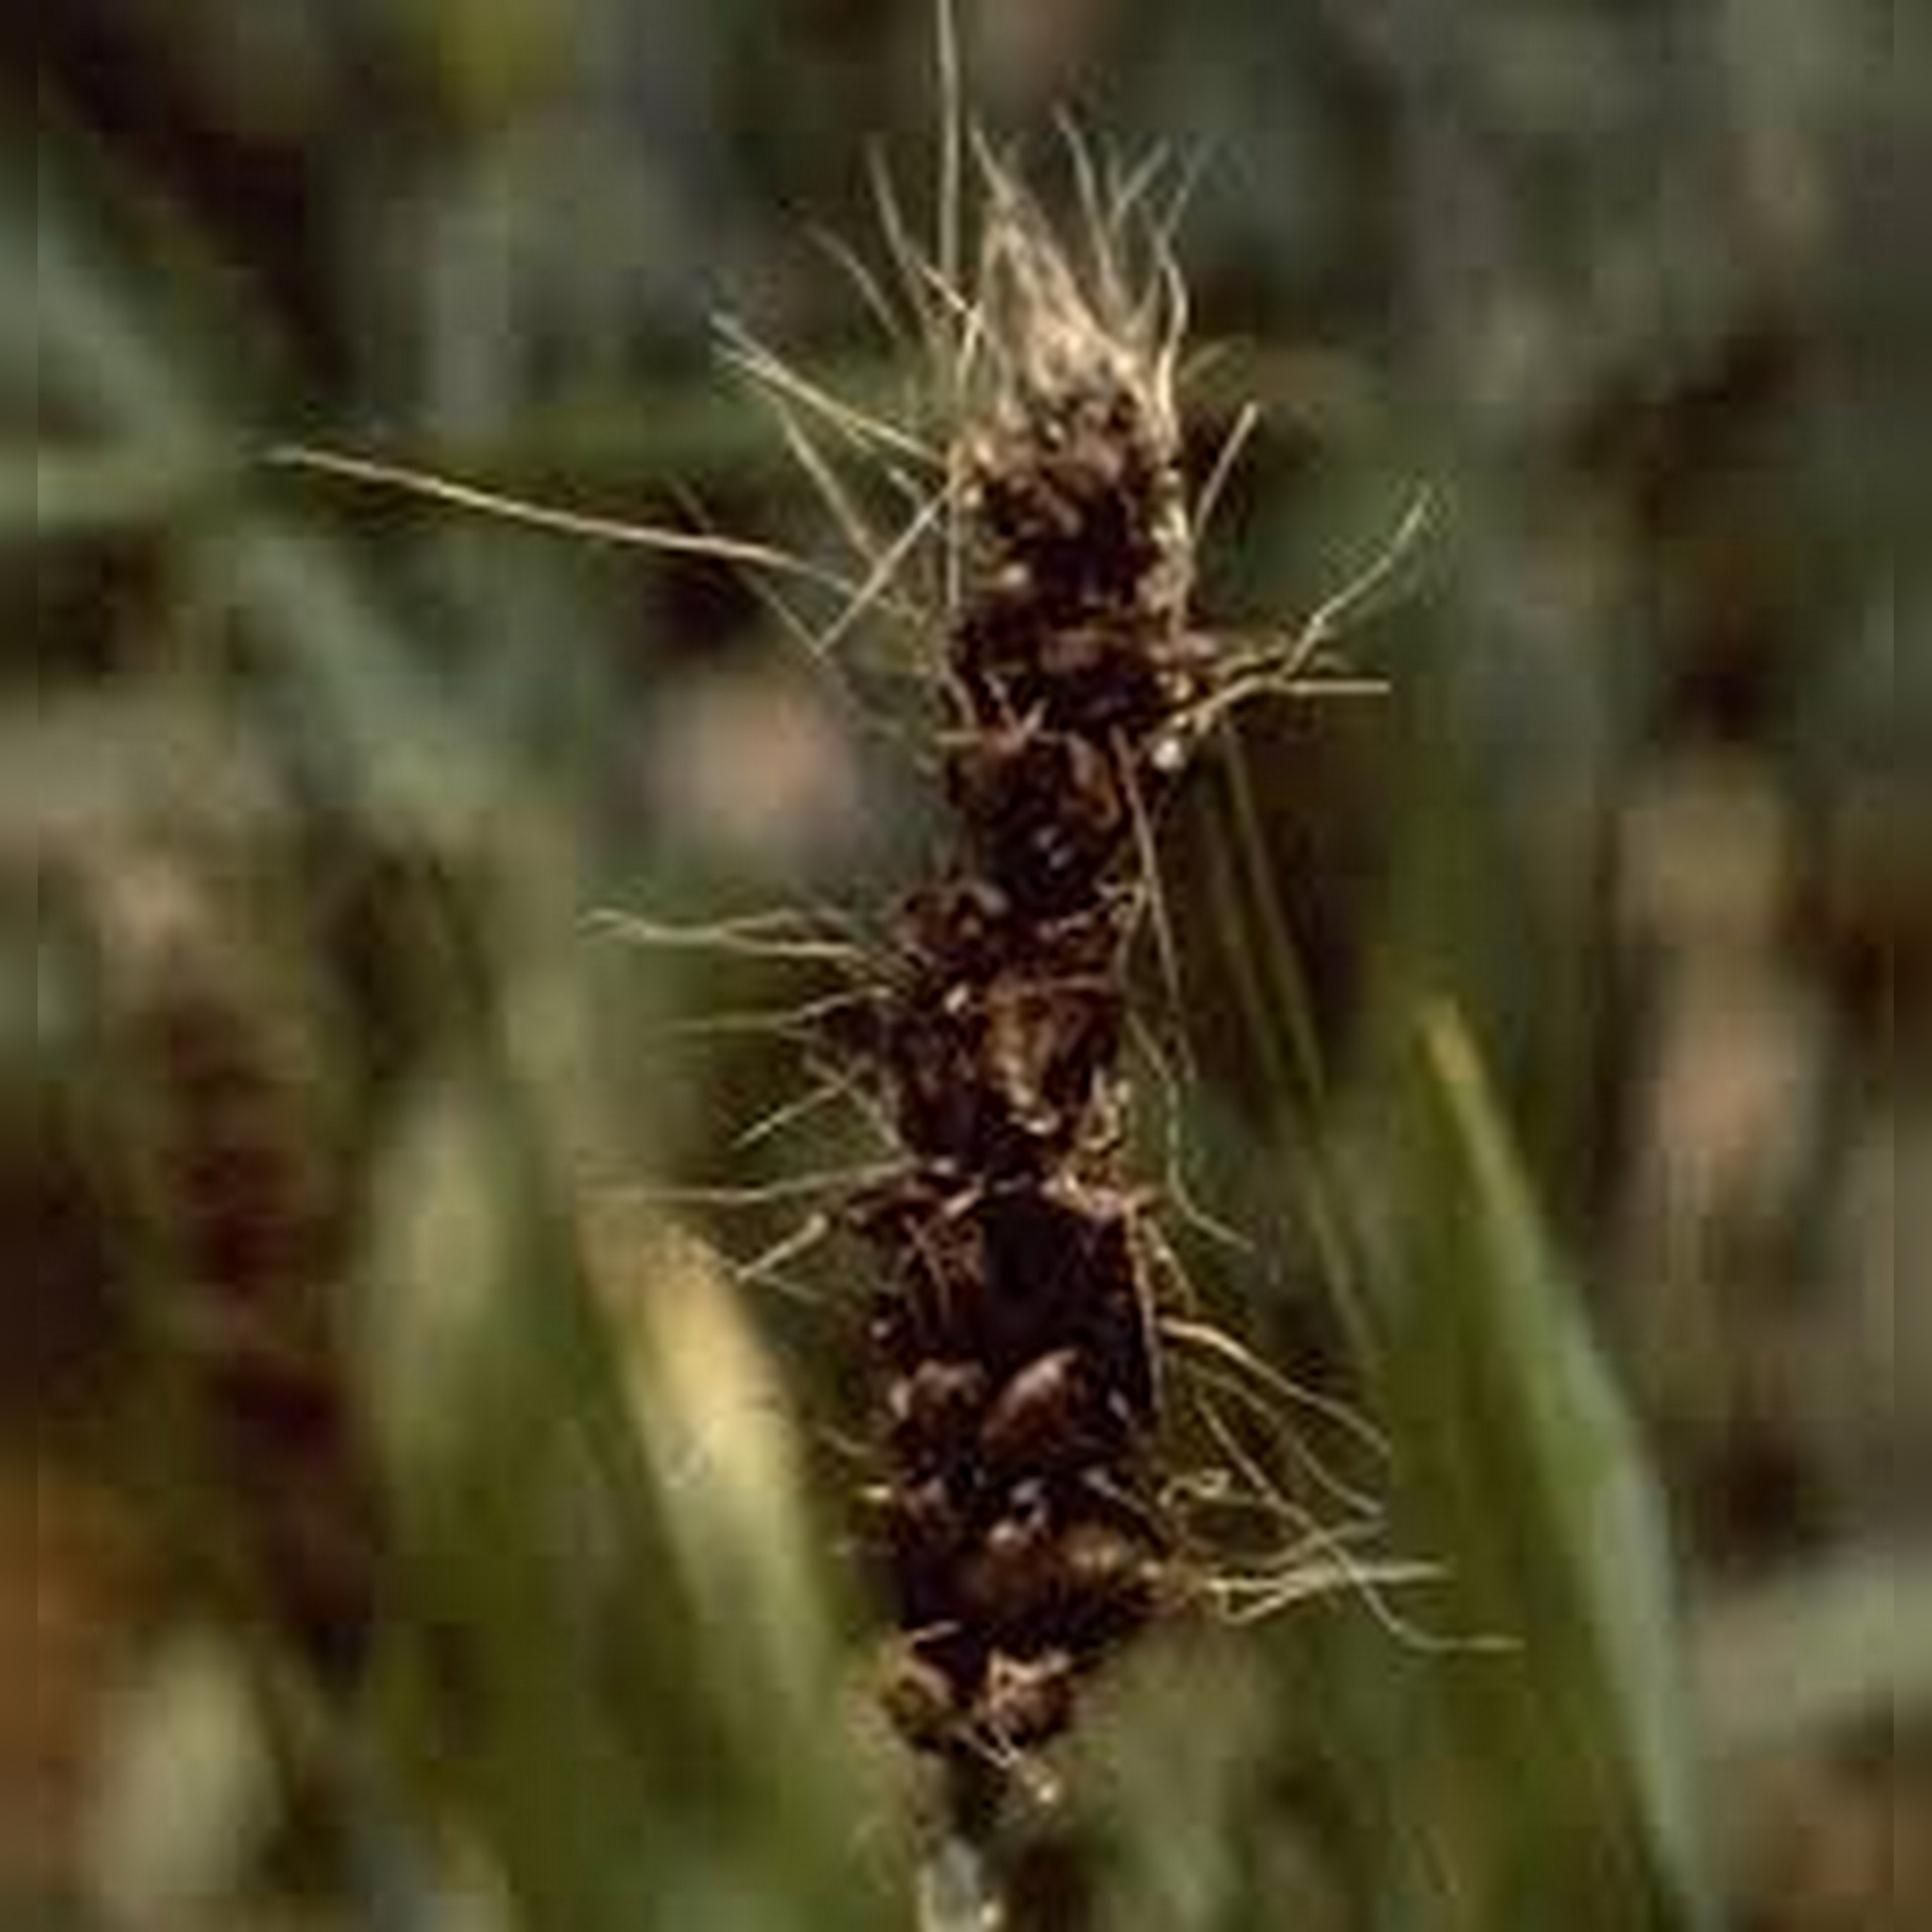Wheat Loose Smut: (768, 265, 1293, 1805)
